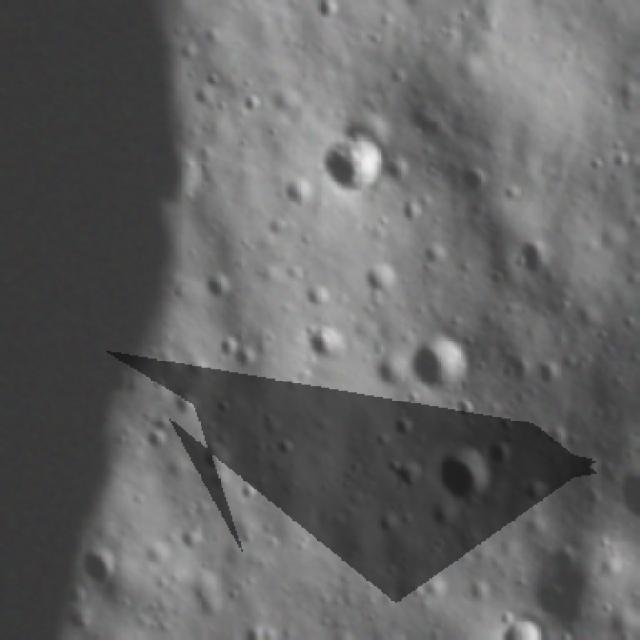crater: (324, 126, 388, 202), (404, 336, 464, 401), (444, 451, 496, 506), (82, 547, 124, 595), (309, 322, 349, 364), (494, 612, 549, 640), (617, 466, 640, 528), (404, 573, 448, 605), (390, 458, 428, 494), (200, 446, 243, 472), (367, 264, 401, 296), (520, 235, 549, 270), (422, 245, 460, 270), (524, 477, 554, 508), (427, 507, 461, 533), (203, 276, 235, 302), (213, 336, 241, 364), (141, 432, 177, 453), (374, 509, 404, 534), (62, 585, 92, 607), (173, 397, 204, 418), (391, 415, 420, 437), (538, 362, 562, 388), (273, 439, 301, 461), (70, 612, 95, 636), (182, 529, 204, 556), (237, 484, 265, 505), (470, 583, 496, 605), (462, 330, 484, 356), (543, 425, 566, 449), (495, 442, 516, 468), (320, 1, 345, 22), (452, 398, 478, 418), (501, 361, 519, 387), (132, 489, 152, 511), (240, 347, 258, 371), (224, 588, 245, 608), (152, 418, 182, 432), (244, 94, 265, 114), (250, 627, 281, 640), (262, 410, 283, 428), (218, 401, 237, 419), (377, 432, 394, 452), (474, 360, 494, 377), (406, 389, 425, 406), (625, 313, 637, 335), (244, 576, 258, 592)
